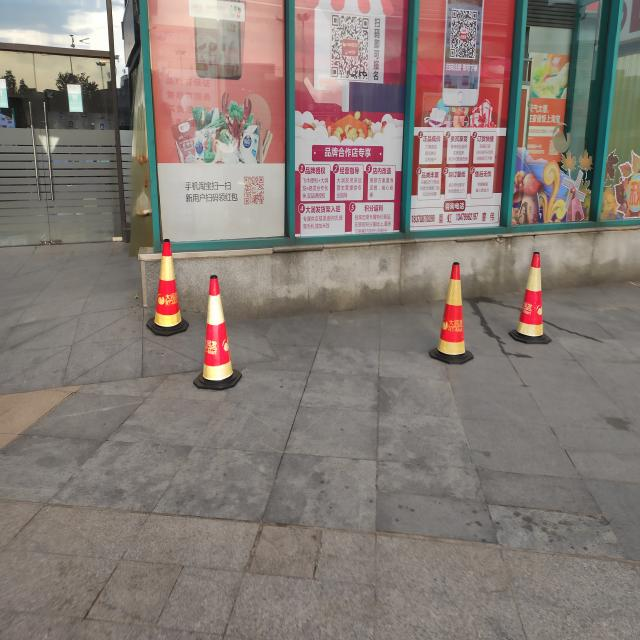reflective_cone: (193, 274, 243, 389), (426, 261, 474, 366), (146, 239, 189, 337), (508, 250, 552, 344)
